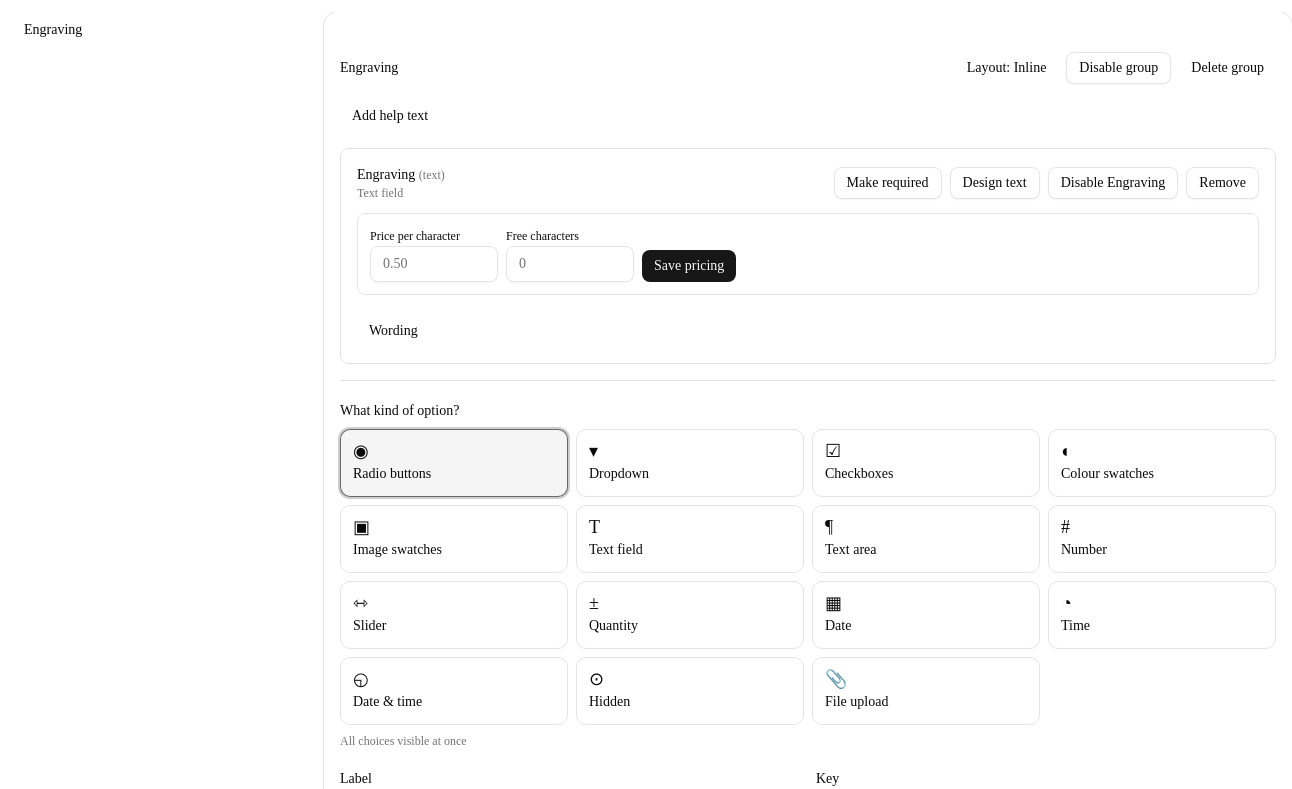
Test: option wording › offers the four fields the storefront renders
This screenshot has width=1292, height=789.
Step 1. Click the button "Wording" → (393, 331), box [357,315,430,347]
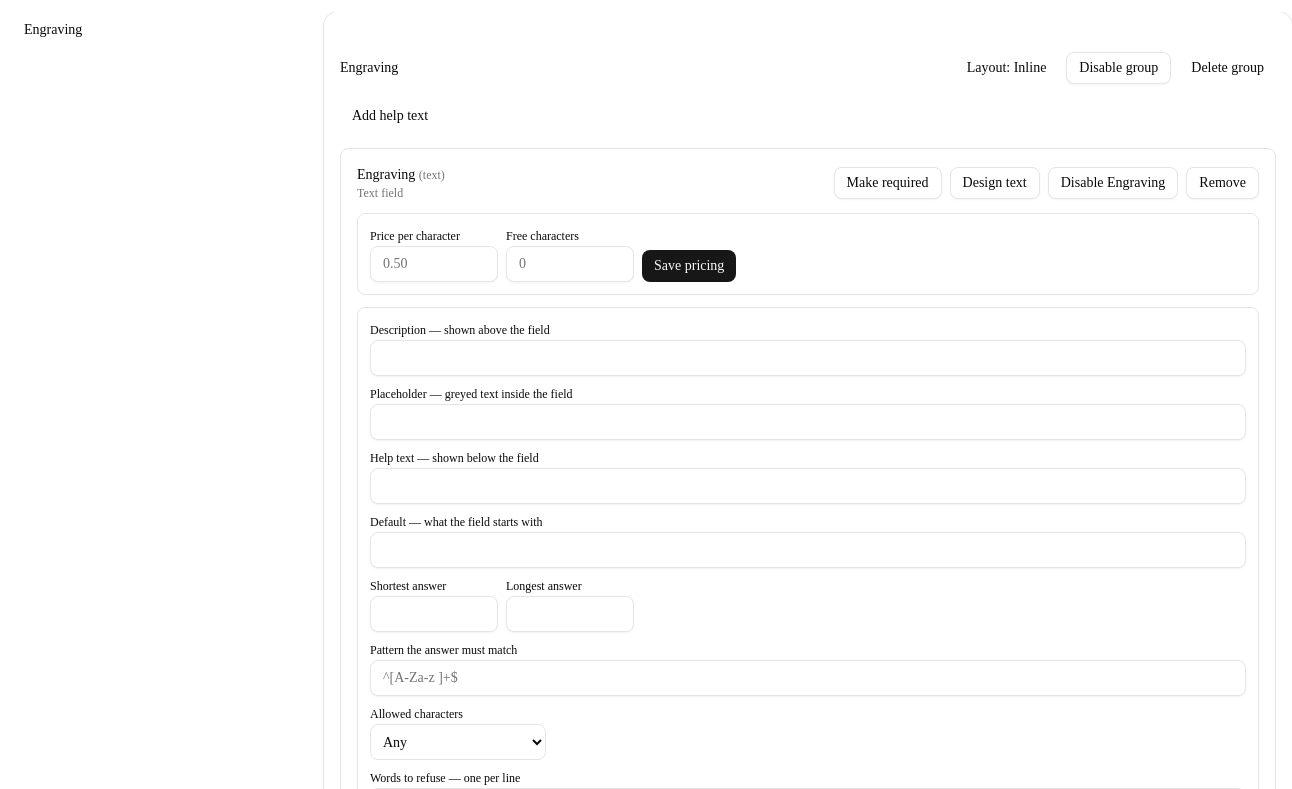
expect the field labelled "Description — shown above the field" is shown: met, box [370,340,1246,376]
expect the field labelled "Placeholder — greyed text inside the field" is shown: met, box [370,404,1246,440]
expect the field labelled "Help text — shown below the field" is shown: met, box [370,468,1246,504]
